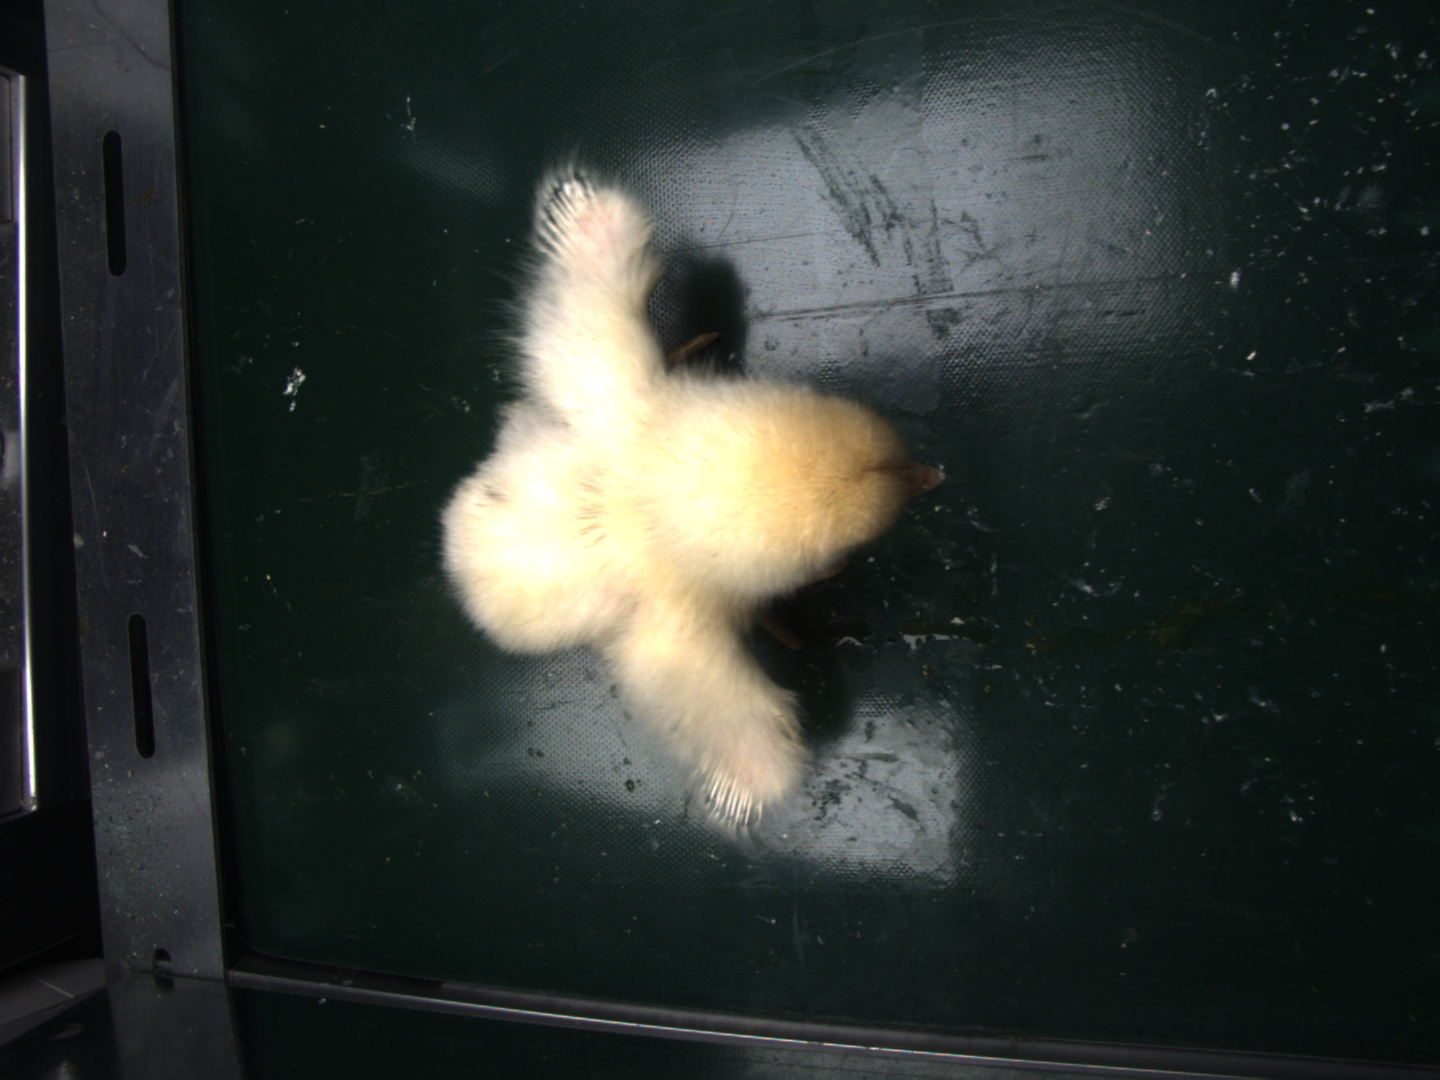male: (701, 767, 760, 828)
